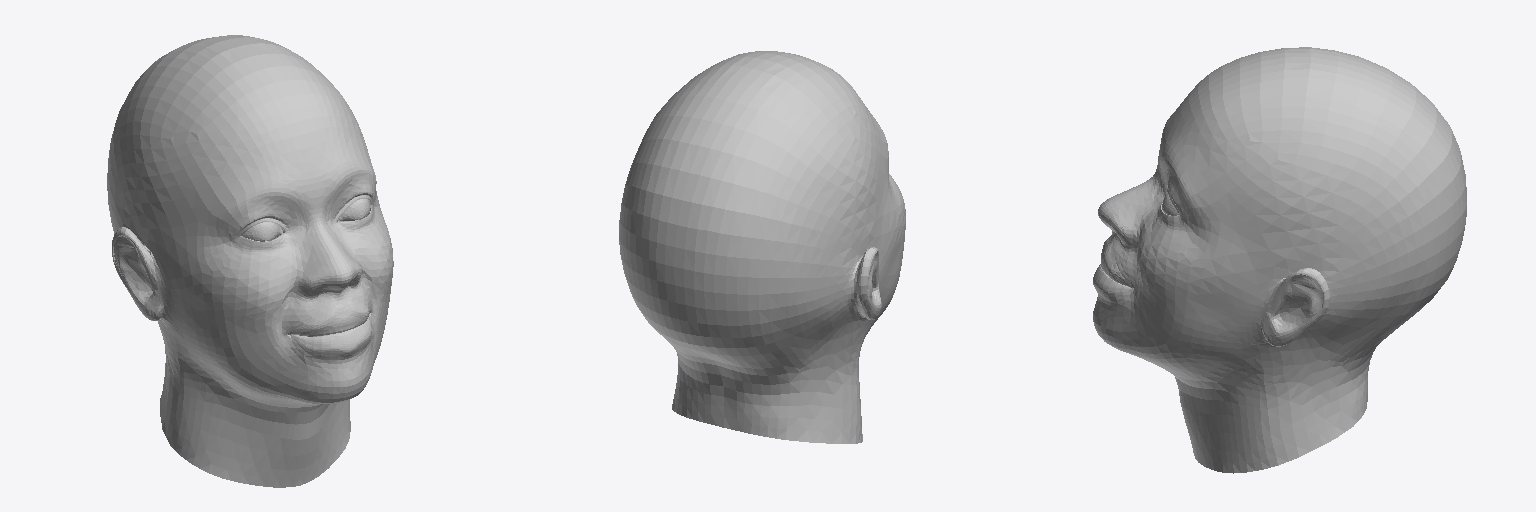
The model's file is Jane_hi_all_ExpressionSmileClosed.obj.
3 renders of one model, left to right at view 1: azimuth 30°, elevation 25°; view 2: azimuth 150°, elevation 25°; view 3: azimuth 270°, elevation 25°, orthographic.
Visible parts, largest first — view 1: FaceGen; view 2: FaceGen; view 3: FaceGen.
Boxes of the visible parts, box(x1,y1,x2,y2) form: FaceGen: box(107, 35, 393, 487); FaceGen: box(619, 51, 905, 443); FaceGen: box(1093, 47, 1466, 473).
Bounding box in the file's own units: 181 × 281 × 240.